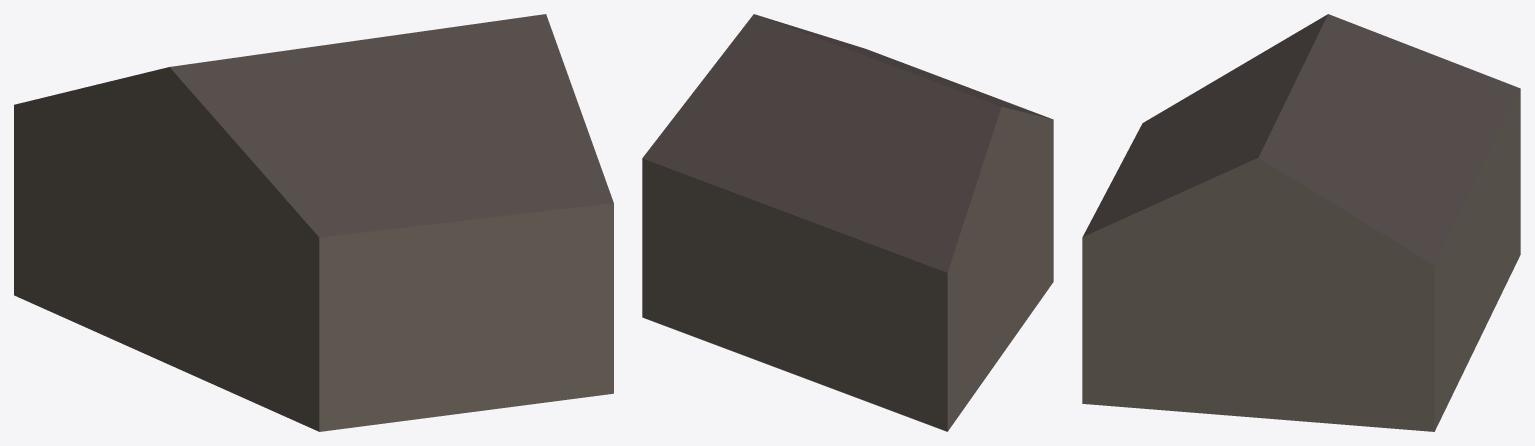
3 views of the same model, side by side, from view 1: azimuth 30°, elevation 25°; view 2: azimuth 150°, elevation 25°; view 3: azimuth 270°, elevation 25° (orthographic). The views are drawn at different scales.
Parts seen in each view (by area): view 1: HP-w859082488; view 2: HP-w859082488; view 3: HP-w859082488.
Part boxes in pixels (x1,y1,x2,y2): HP-w859082488: (14,14,613,431); HP-w859082488: (642,14,1053,431); HP-w859082488: (1082,14,1520,431).
Bounding box in the file's own units: 13.67 × 9.38 × 14.3.
